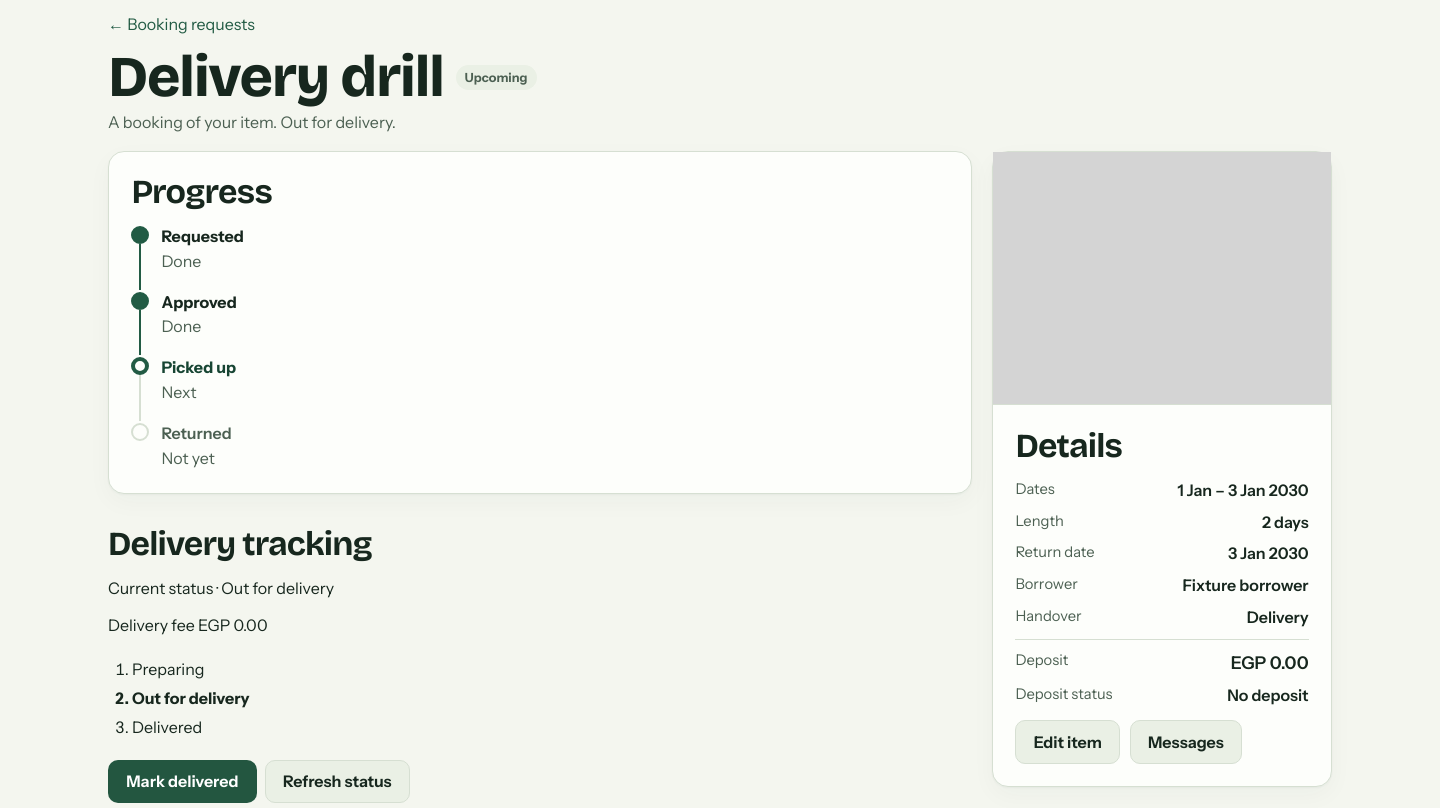
it: shows delivery controls and refreshes the reservation for the return after handover
Step 1. Click the button "Mark delivered" → [182, 781], box [108,760,257,803]
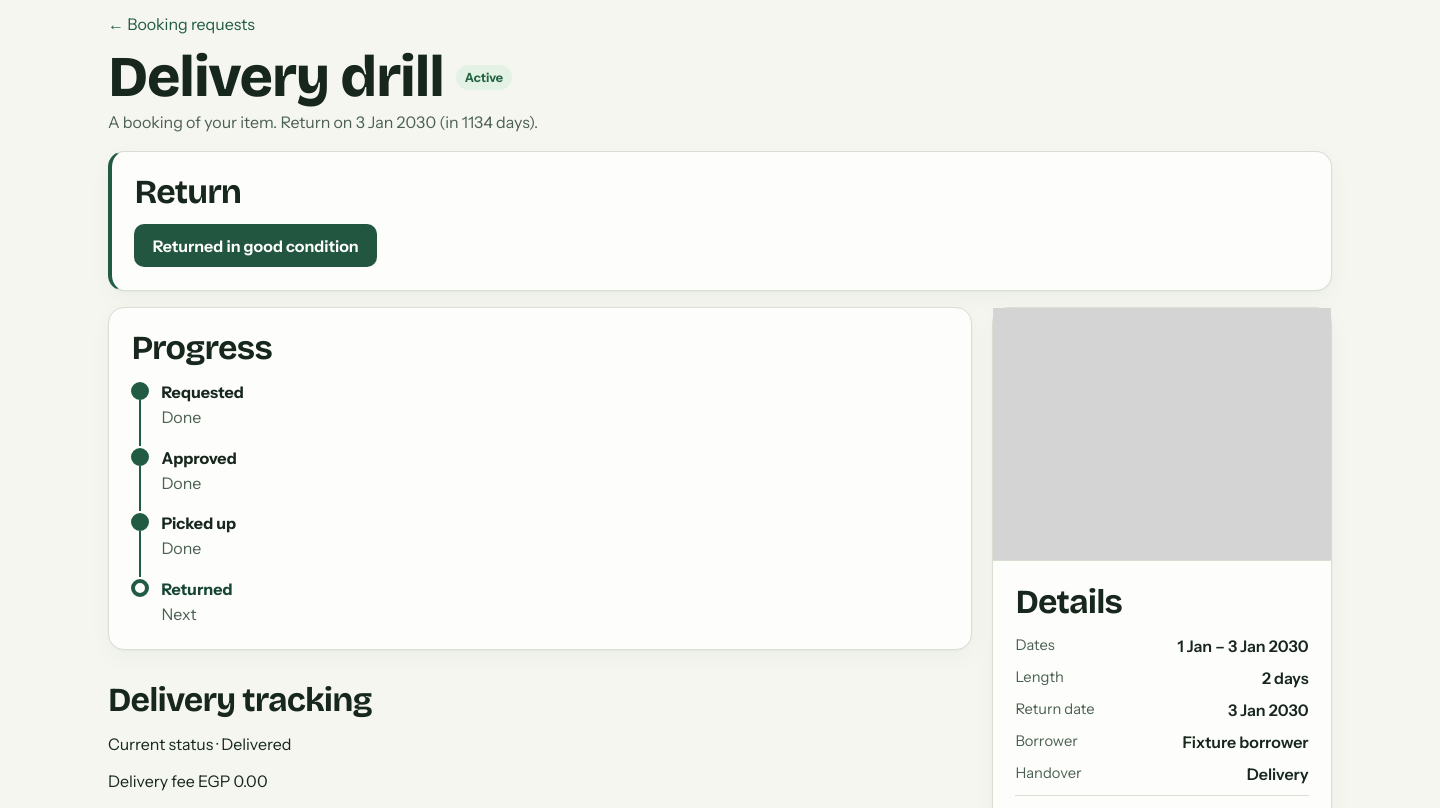
Result: the button "Returned in good condition" is shown at [134,224,377,267]
